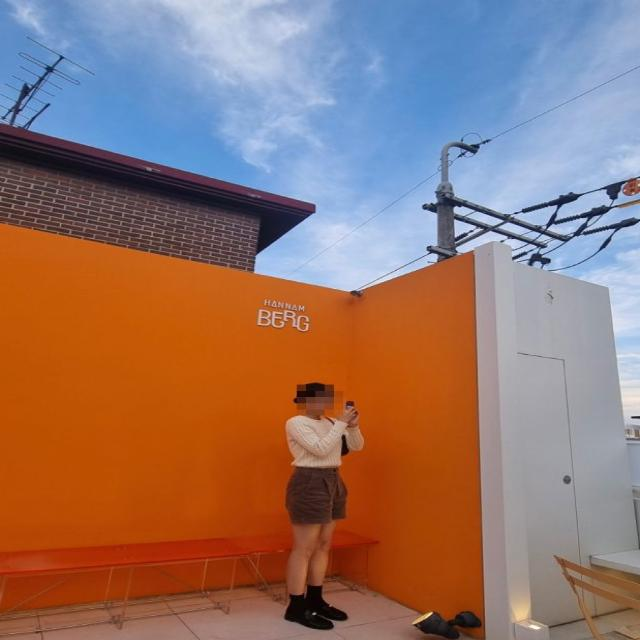longsleeve: (286, 411, 361, 466)
shortpants: (290, 462, 347, 528)
